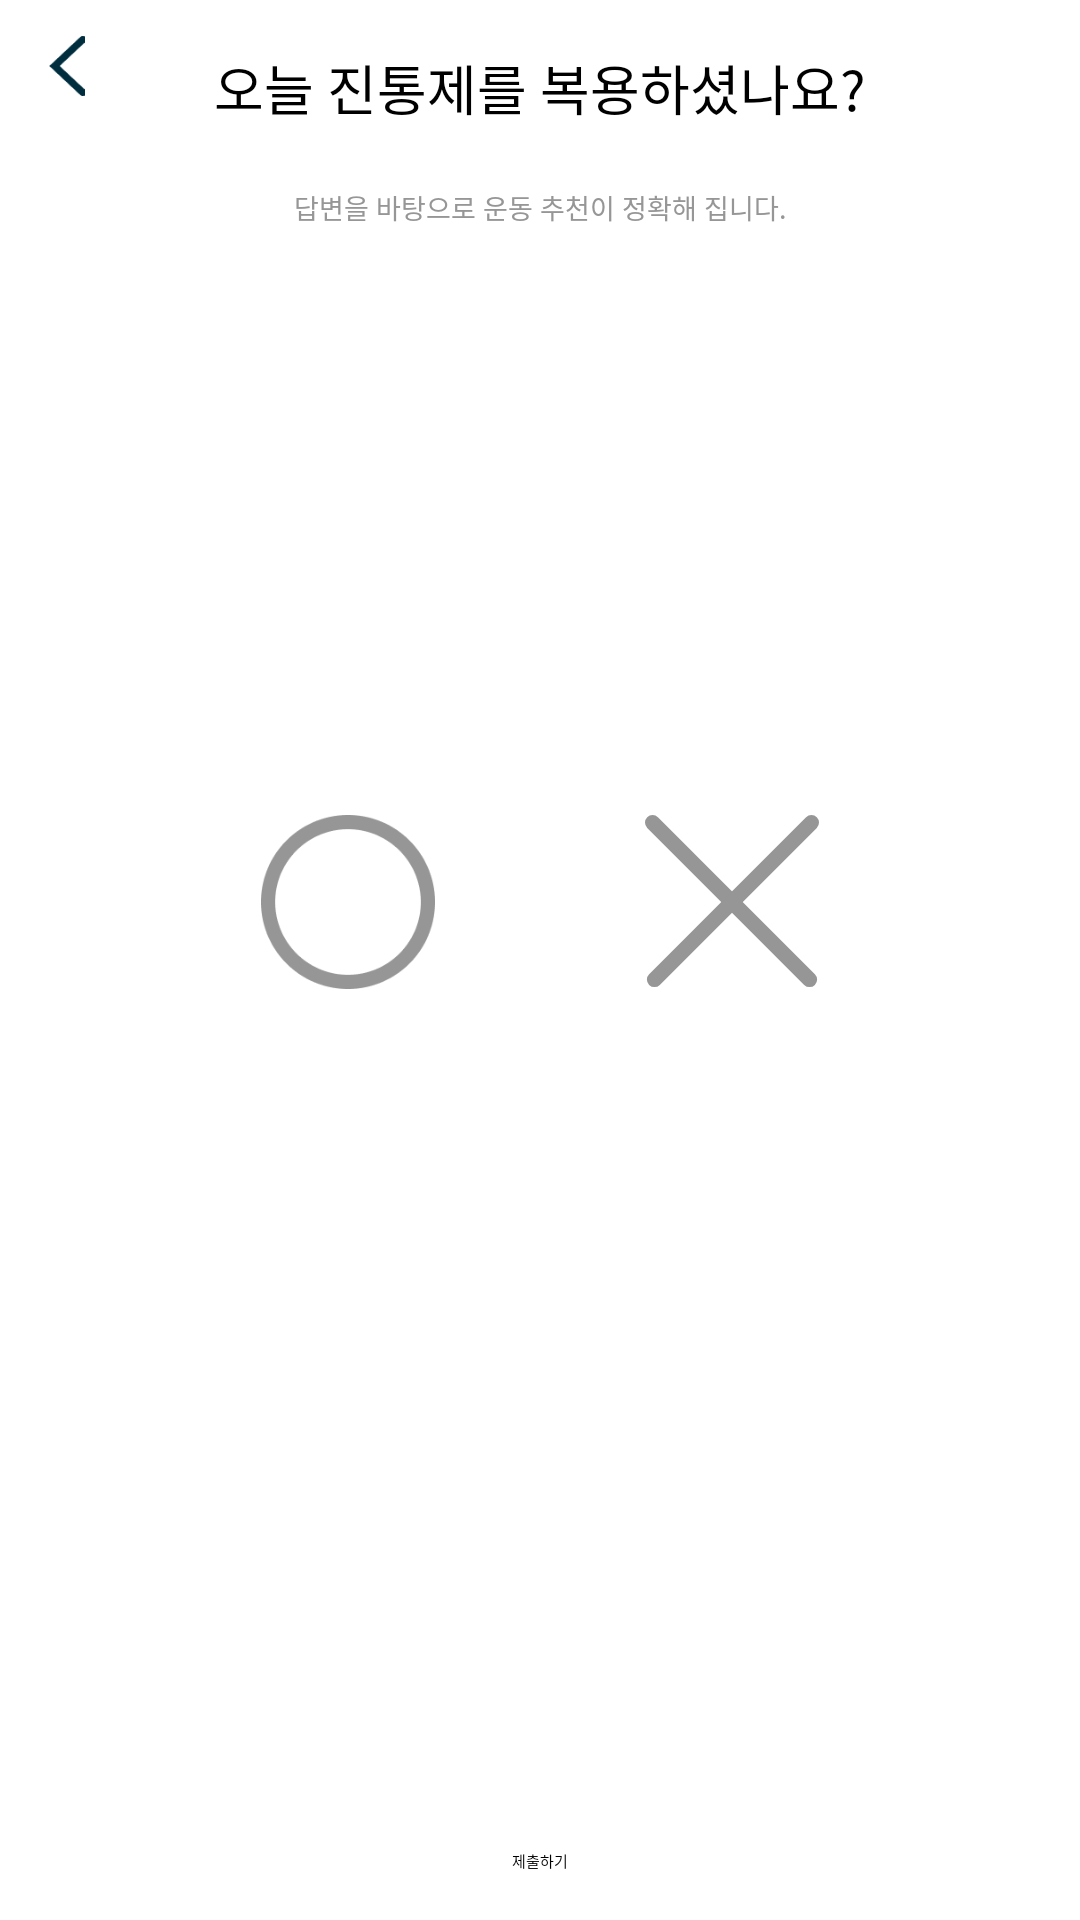

Icons on this 1080x1920 Android screen, each with its box as (x1, y1, x2, y2):
back arrow: (49, 36, 85, 96)
